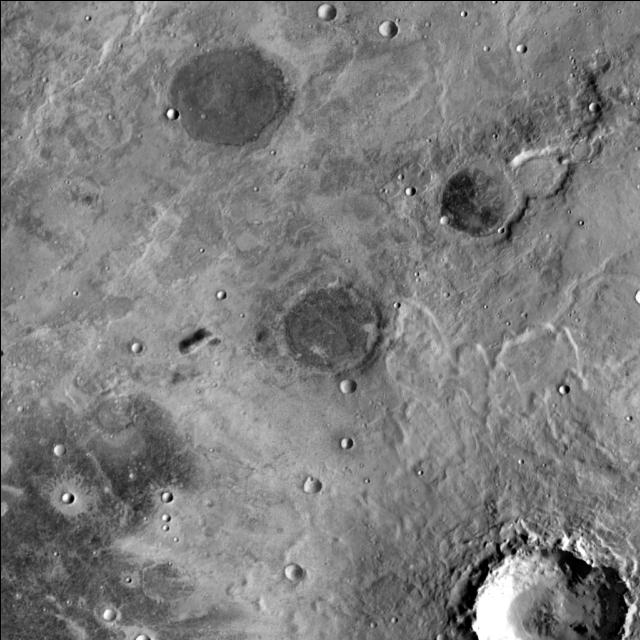crater: (148, 34, 283, 155), (463, 545, 621, 640), (265, 278, 375, 378), (428, 152, 520, 236), (504, 140, 564, 196), (369, 17, 389, 35), (308, 0, 328, 17), (294, 476, 312, 492), (276, 562, 294, 578), (330, 376, 346, 392), (626, 286, 640, 302), (156, 106, 170, 118), (94, 607, 108, 619), (330, 434, 344, 446), (53, 490, 66, 502), (152, 489, 164, 500), (122, 339, 134, 350), (44, 444, 56, 454), (549, 382, 561, 392), (580, 99, 592, 109), (428, 631, 441, 640), (507, 40, 518, 50), (432, 212, 442, 222), (396, 182, 406, 191), (152, 512, 162, 520), (207, 288, 217, 296), (390, 620, 398, 628), (459, 15, 467, 22), (368, 626, 376, 632), (482, 49, 489, 55), (107, 120, 114, 126)
